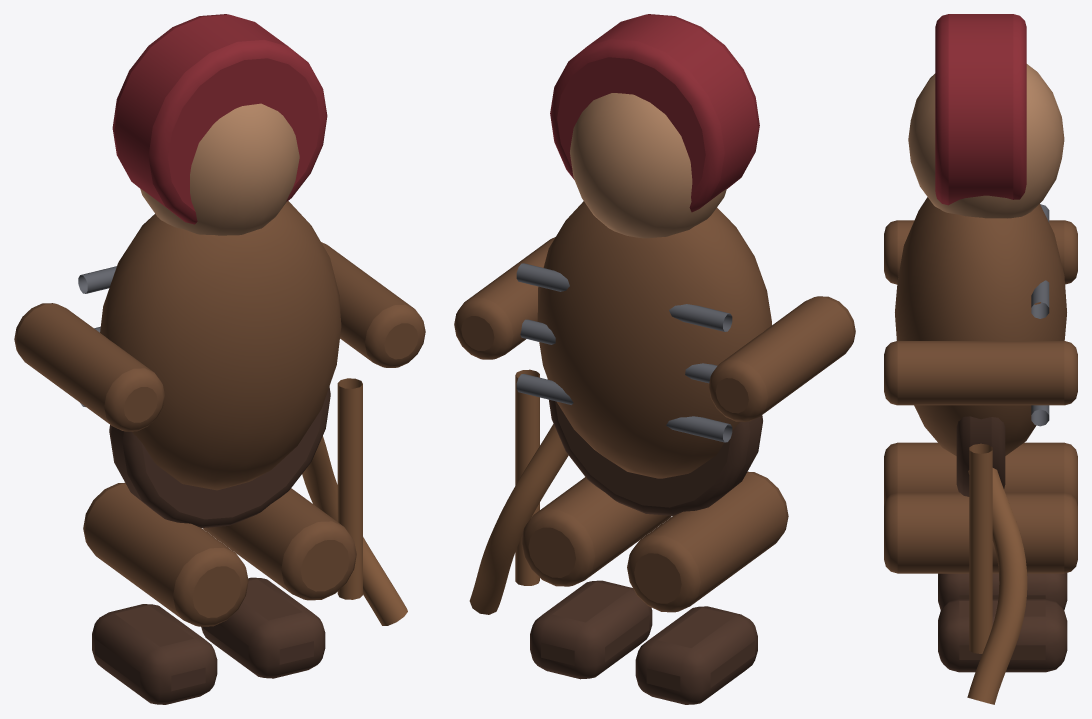
File: archer.glb
The picture shows the model from 3 angles, left to right: view 1: azimuth 30°, elevation 25°; view 2: azimuth 150°, elevation 25°; view 3: azimuth 270°, elevation 25°; orthographic projection. The views are drawn at different scales.
Parts seen in each view (by area): view 1: TorsoMesh, Hood, LeftLegMesh, Head, LeftArmMesh, RightLegMesh, LeftLegBoot, Belt, RightLegBoot, RightArmMesh, WeaponHandle, Bow (+1 smaller); view 2: TorsoMesh, Hood, Head, LeftLegMesh, LeftArmMesh, RightLegMesh, LeftLegBoot, RightLegBoot, Belt, Bow, RightArmMesh, WeaponHandle (+3 smaller); view 3: TorsoMesh, Hood, RightArmMesh, RightLegMesh, Head, LeftLegMesh, Bow, RightLegBoot, WeaponHandle, Belt, LeftArmMesh, LeftLegBoot (+2 smaller).
Boxes of the visible parts, left/top/right/bottom form: TorsoMesh: left=100, top=201, right=341, bottom=490; Hood: left=112, top=14, right=327, bottom=224; LeftLegMesh: left=83, top=482, right=248, bottom=626; Head: left=140, top=103, right=299, bottom=235; LeftArmMesh: left=14, top=303, right=164, bottom=431; RightLegMesh: left=203, top=488, right=356, bottom=600; LeftLegBoot: left=92, top=604, right=217, bottom=704; Belt: left=109, top=386, right=330, bottom=527; RightLegBoot: left=201, top=577, right=325, bottom=678; RightArmMesh: left=321, top=242, right=425, bottom=367; WeaponHandle: left=337, top=378, right=362, bottom=599; Bow: left=302, top=436, right=407, bottom=625; TorsoMesh: left=537, top=201, right=771, bottom=478; Hood: left=550, top=14, right=759, bottom=212; Head: left=570, top=93, right=726, bottom=238; LeftLegMesh: left=627, top=471, right=788, bottom=612; LeftArmMesh: left=708, top=296, right=855, bottom=421; RightLegMesh: left=521, top=477, right=671, bottom=586; LeftLegBoot: left=635, top=606, right=757, bottom=704; RightLegBoot: left=530, top=580, right=652, bottom=679; Belt: left=547, top=379, right=762, bottom=515; Bow: left=469, top=424, right=568, bottom=614; RightArmMesh: left=454, top=237, right=555, bottom=359; WeaponHandle: left=515, top=369, right=539, bottom=585; TorsoMesh: left=895, top=197, right=1066, bottom=455; Hood: left=935, top=14, right=1026, bottom=205; RightArmMesh: left=884, top=341, right=1077, bottom=405; RightLegMesh: left=884, top=492, right=1077, bottom=573; Head: left=908, top=64, right=1064, bottom=218; LeftLegMesh: left=884, top=442, right=1077, bottom=505; Bow: left=967, top=468, right=1027, bottom=704; RightLegBoot: left=938, top=599, right=1067, bottom=672; WeaponHandle: left=969, top=443, right=992, bottom=653; Belt: left=956, top=416, right=1005, bottom=496; LeftArmMesh: left=884, top=220, right=1077, bottom=284; LeftLegBoot: left=938, top=573, right=1067, bottom=610.
Bounding box in the file's own units: 1.41 × 2.52 × 0.72.
